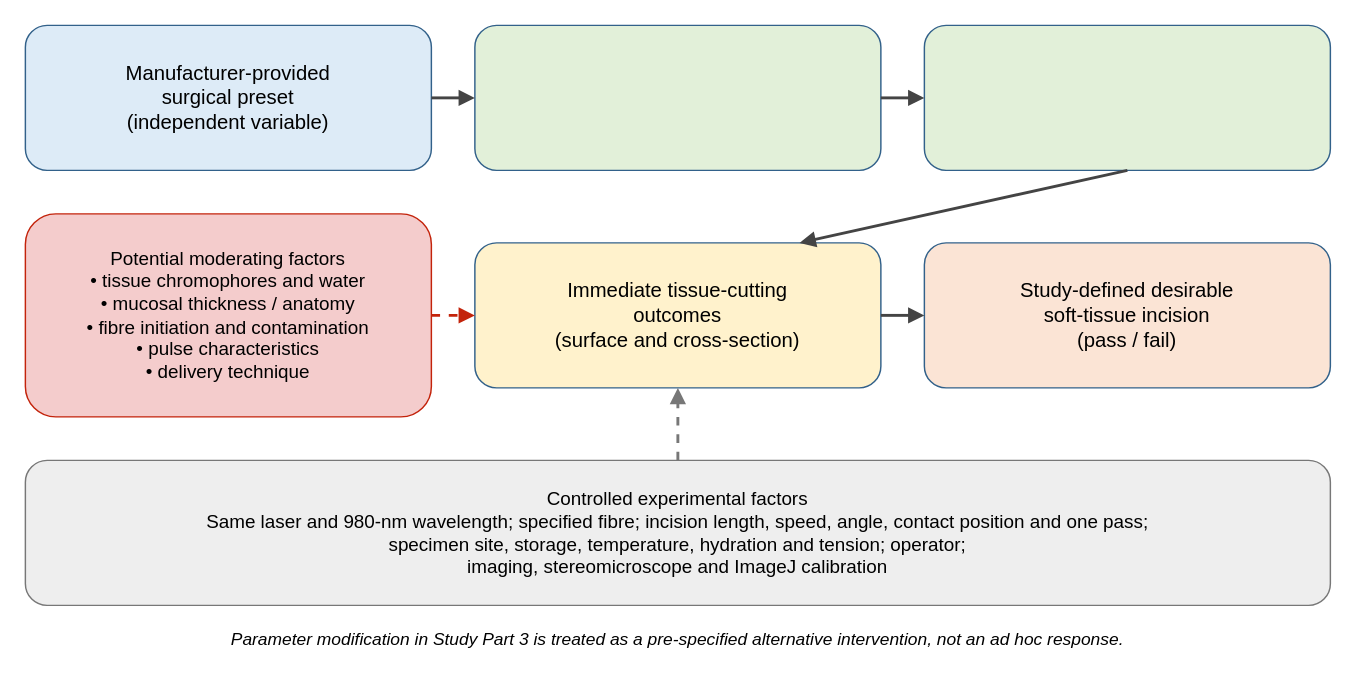
Image size: 1356x689. Some labels were removed from this diagram. Here are the shapes that lost their labels. From the top down, the centre of each, then its label:
the point at 677,97: Measured distal output before fibre initiation (measured mediator)
the point at 1126,97: Delivered exposure and photothermal interaction (mechanistic mediator)
